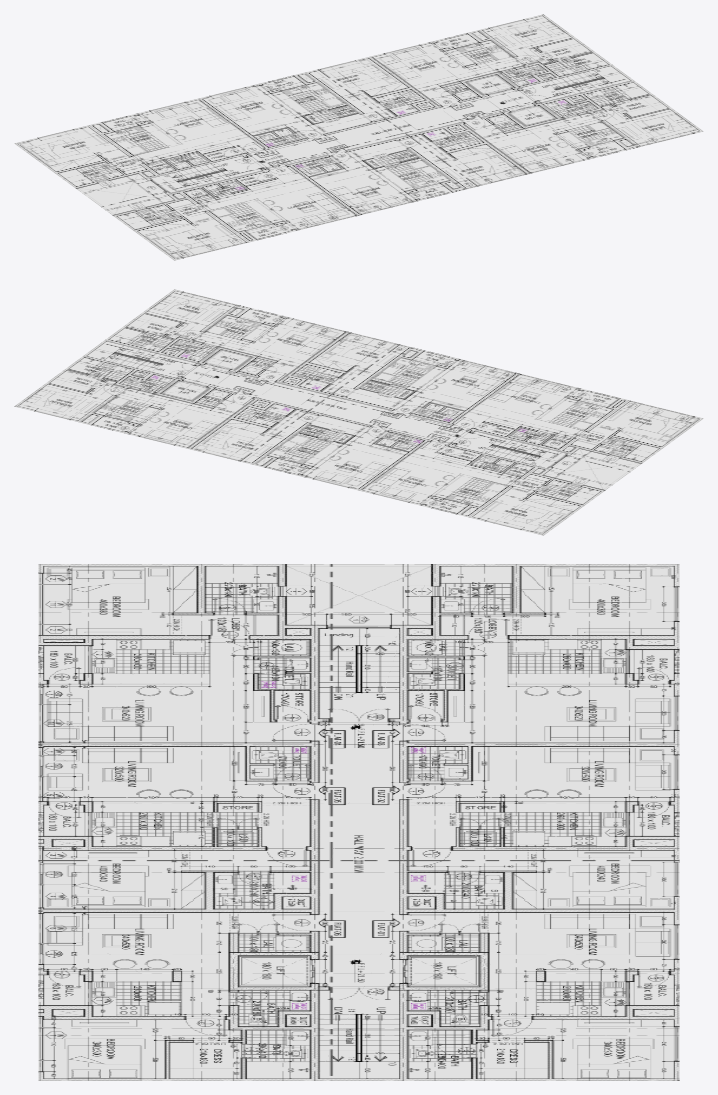
The model's file is Penthouse plansold.glb.
The picture shows the model from 3 angles, top to bottom: view 1: azimuth 30°, elevation 25°; view 2: azimuth 150°, elevation 25°; view 3: azimuth 270°, elevation 25°; orthographic projection. The views are drawn at different scales.
Parts seen in each view (by area): view 1: HALL WAY.006, flat-04.006, flat-03.006, flat-06.006, flat-01.006, flat-05.006, flat-02.006; view 2: HALL WAY.006, flat-04.006, flat-03.006, flat-06.006, flat-01.006, flat-05.006, flat-02.006; view 3: HALL WAY.006, flat-04.006, flat-03.006, flat-06.006, flat-01.006, flat-05.006, flat-02.006.
Part boxes in pixels (x1,y1,x2,y2): HALL WAY.006: (75, 64, 634, 215); flat-04.006: (113, 165, 358, 260); flat-03.006: (14, 98, 267, 187); flat-06.006: (461, 81, 703, 173); flat-01.006: (370, 14, 612, 107); flat-05.006: (290, 123, 528, 215); flat-02.006: (199, 56, 437, 148); HALL WAY.006: (83, 340, 642, 490); flat-04.006: (450, 373, 703, 462); flat-03.006: (359, 440, 604, 535); flat-06.006: (105, 289, 348, 382); flat-01.006: (14, 356, 256, 448); flat-05.006: (279, 332, 518, 423); flat-02.006: (189, 398, 426, 490); HALL WAY.006: (283, 564, 435, 1080); flat-04.006: (38, 564, 314, 744); flat-03.006: (404, 564, 679, 744); flat-06.006: (38, 910, 315, 1080); flat-01.006: (403, 911, 679, 1080); flat-05.006: (38, 744, 315, 910); flat-02.006: (403, 744, 679, 910).
Bounding box in the file's own units: 11.06 × 0 × 5.8.
1 material, 1 textured.
